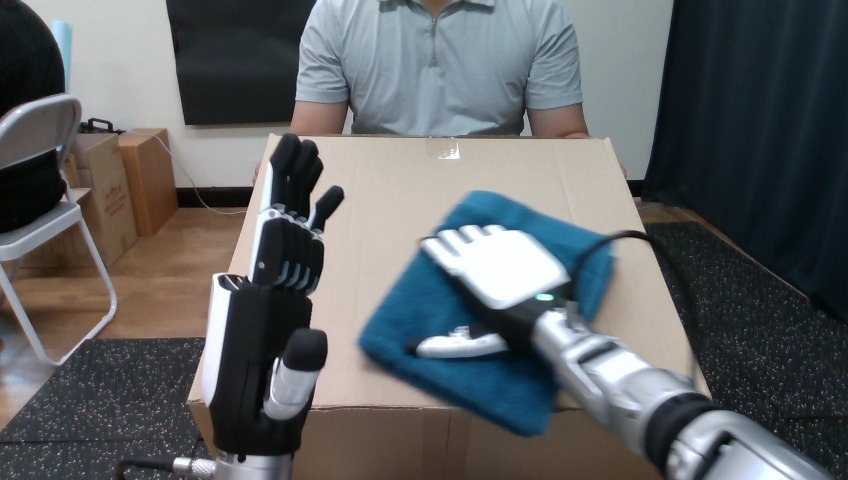left robot hand: (413, 225, 828, 479), (117, 133, 343, 479)
